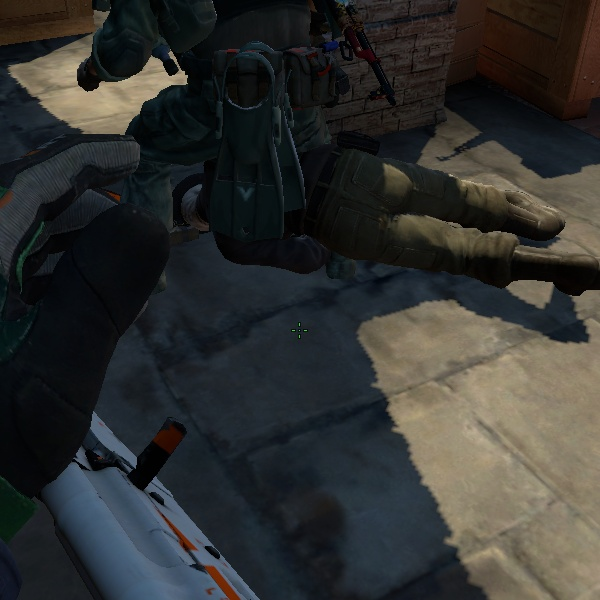ct_body: (16, 0, 590, 583)
